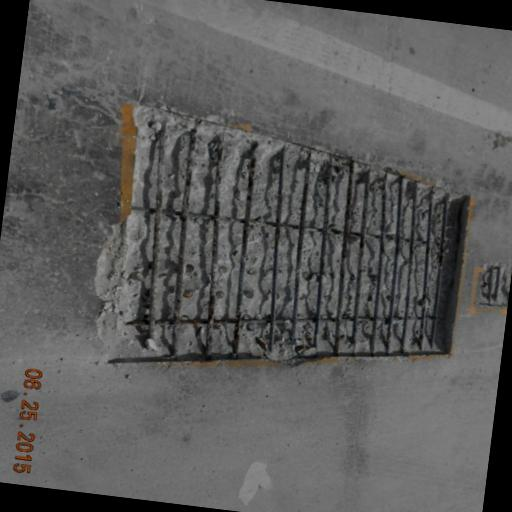spalling: (80, 79, 484, 379), (472, 256, 512, 318)
